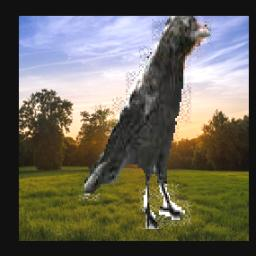Crow: (79, 16, 212, 229)
